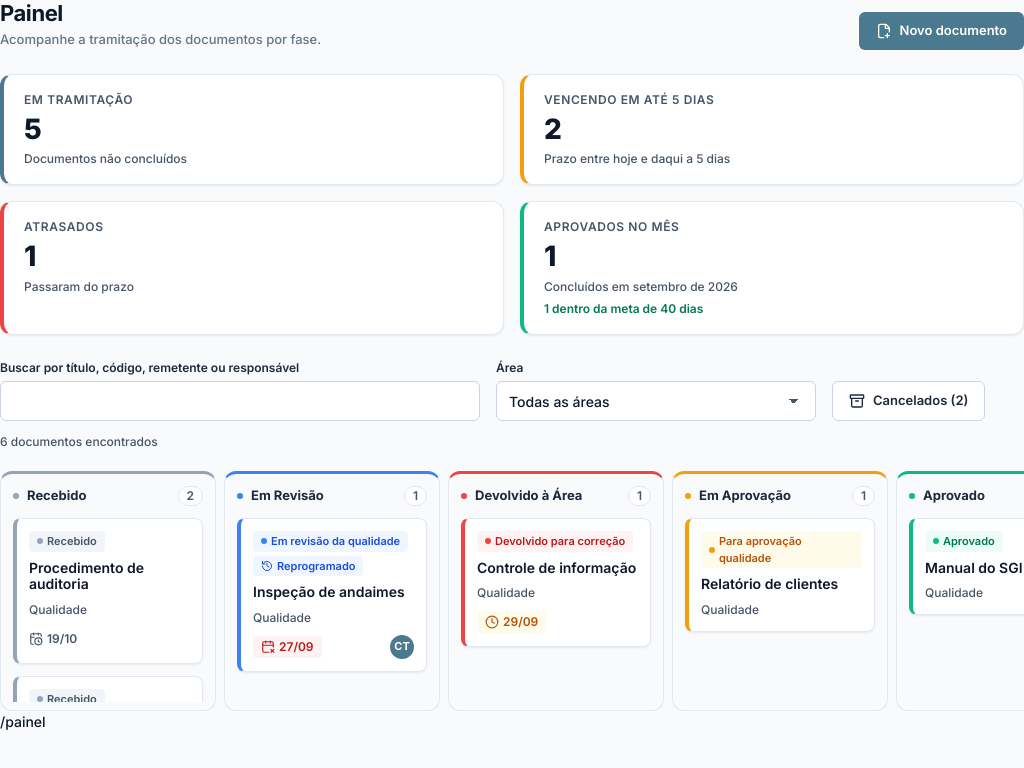
Test case: TelaPainel: detalhes (F4) › clique no corpo do cartão abre os detalhes e grava ?documento= na URL; fechar limpa e devolve o foco ao título
Click the text "19/10": (62, 639) [47,630,77,648]
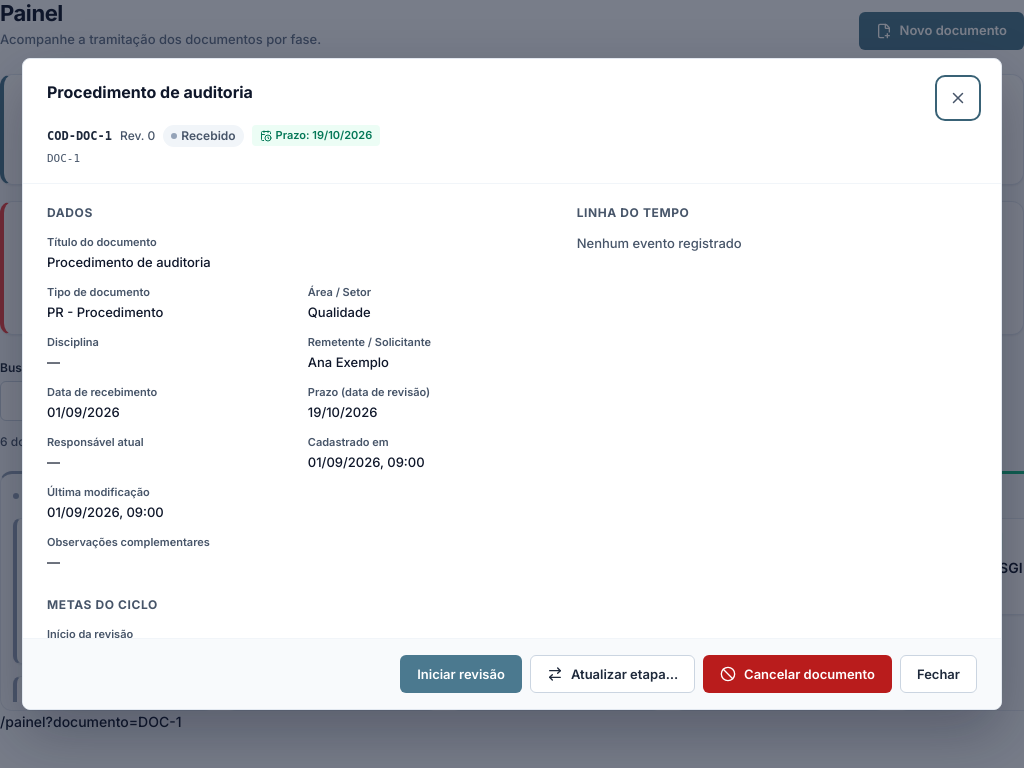
Check: the text with test id "endereco" reads "/painel?documento=DOC-1", box [0,713,182,730]
Click the button "Fechar": (938, 674) [900,655,977,693]
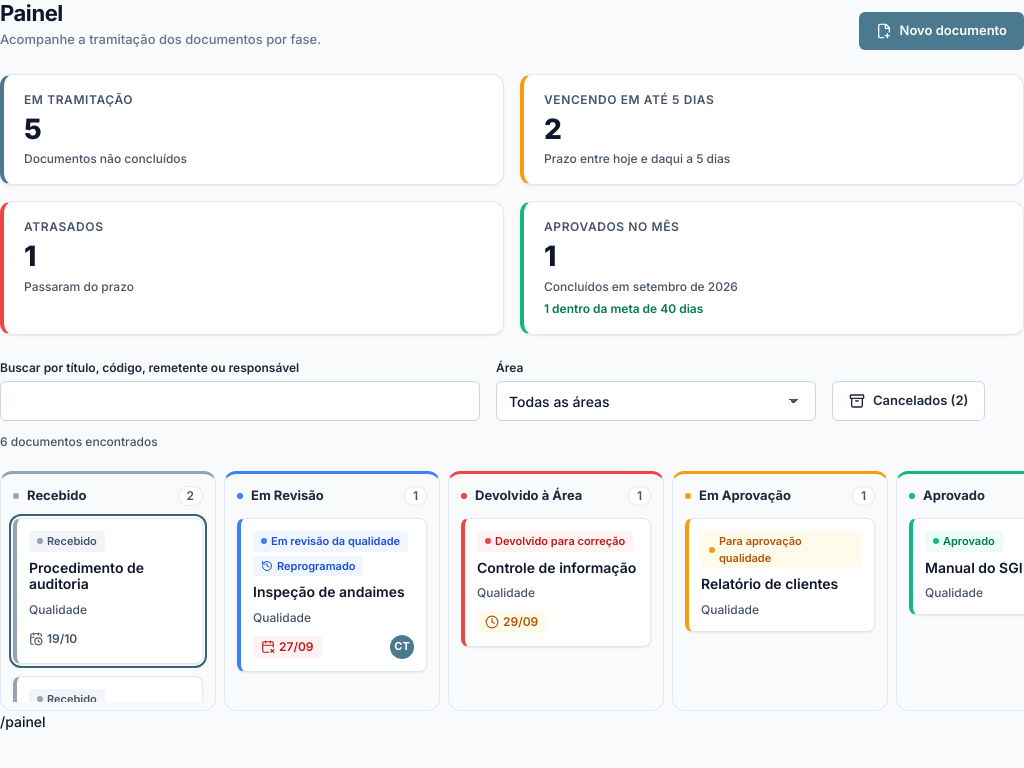
Check: the text with test id "endereco" reads "/painel", box [0,713,46,730]
